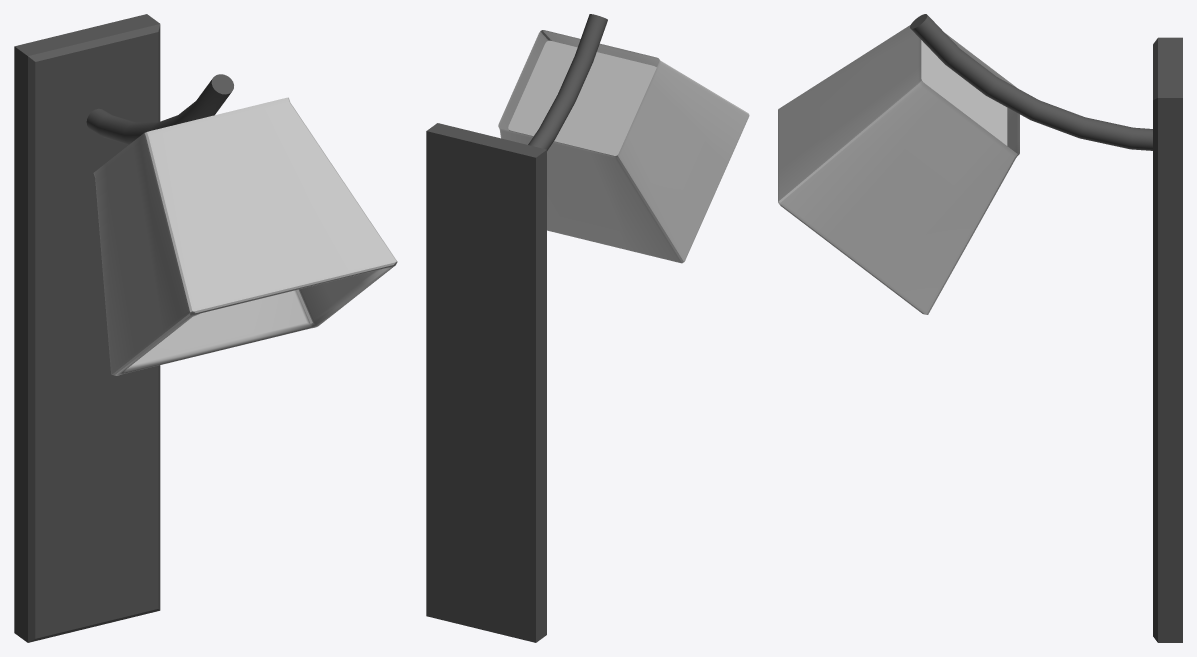
Rendered from wall_lamp.fbx.
3 views of the same model, side by side, from view 1: azimuth 30°, elevation 25°; view 2: azimuth 150°, elevation 25°; view 3: azimuth 270°, elevation 25° (orthographic). The views are drawn at different scales.
Parts seen in each view (by area): view 1: Plane001; view 2: Plane001; view 3: Plane001.
Boxes of the visible parts, x1,y1,x2,y2 form: Plane001: (14,14,397,642); Plane001: (426,14,749,642); Plane001: (778,14,1182,642).
Size of the model in its own units: 4.35 by 12.86 by 7.9.
Materials: 2 (2 with a texture image).
